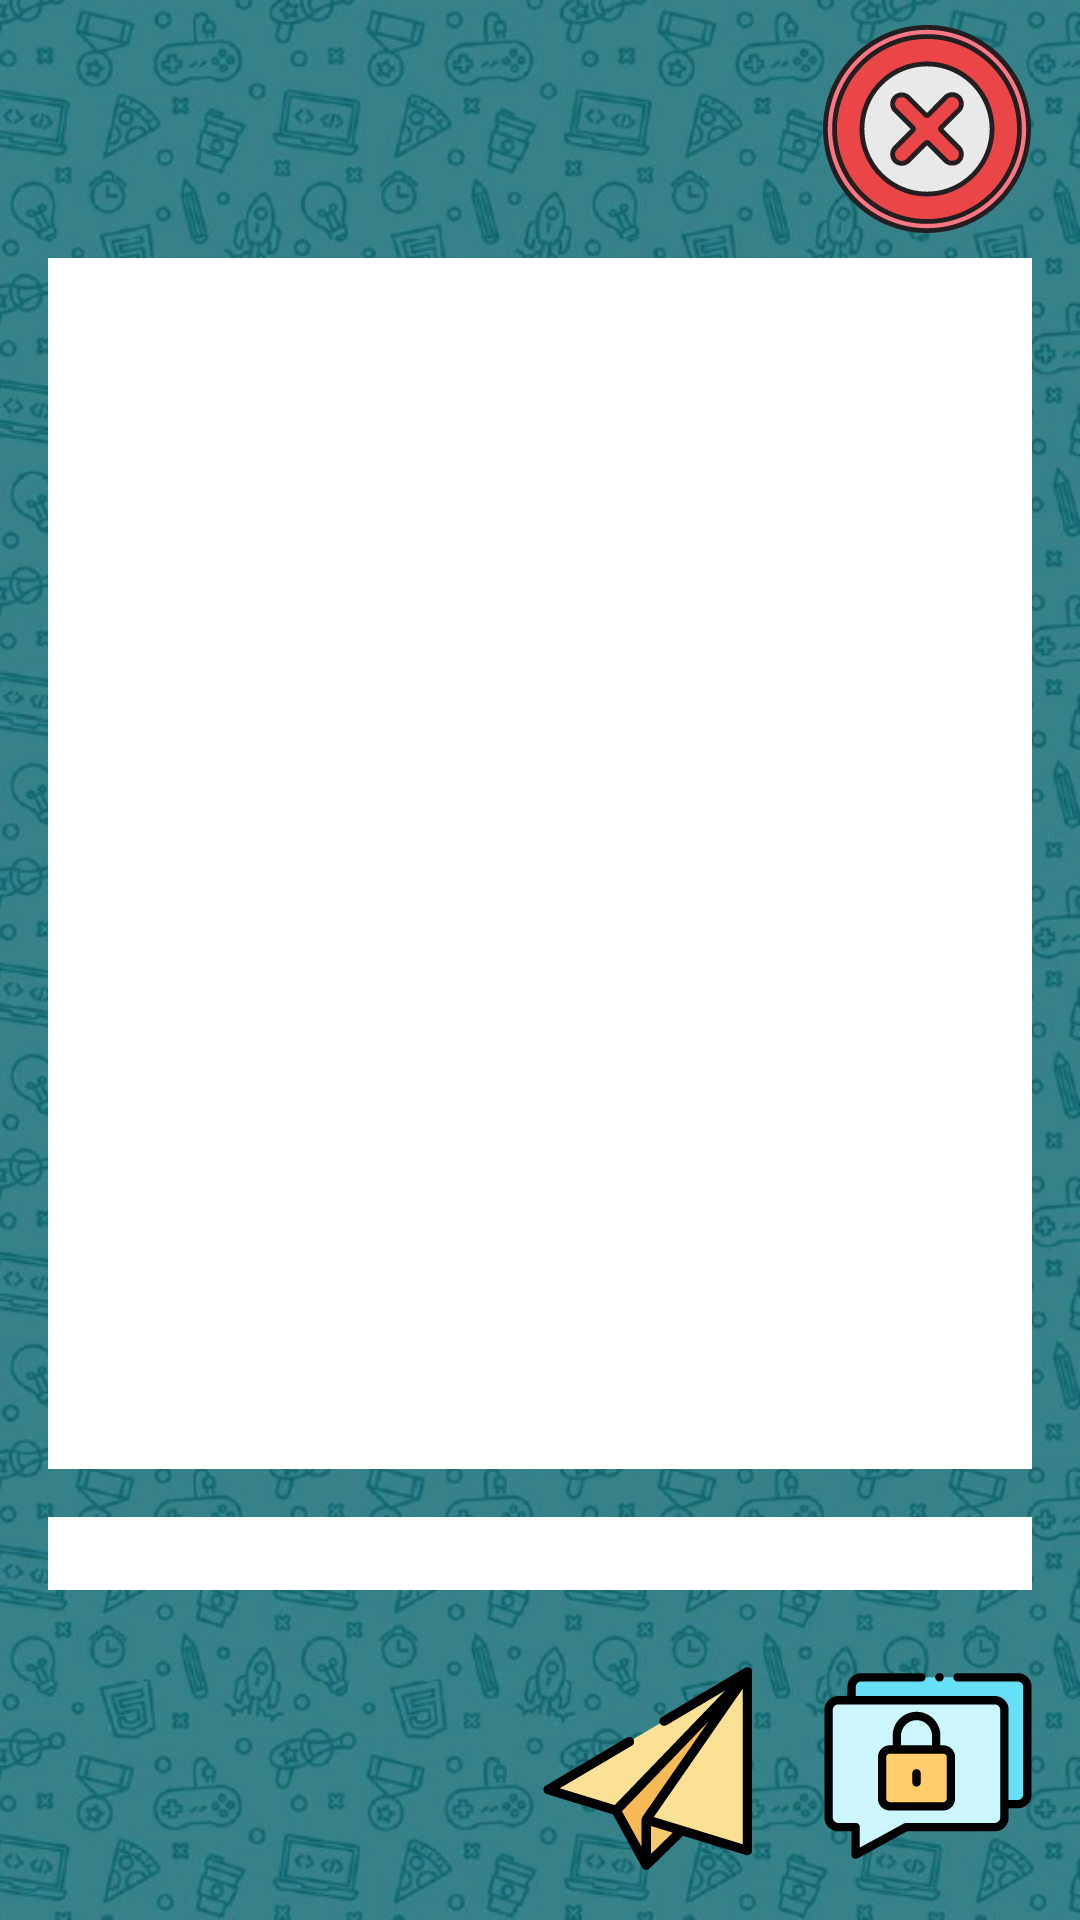

Locate icon controls on the screen. Image size 1080w x 1920h, boxes as {"left": x1, "top": y1, "right": x2, "bottom": y2}.
enviar: {"left": 542, "top": 1662, "right": 752, "bottom": 1872}
privado: {"left": 824, "top": 1662, "right": 1032, "bottom": 1870}
salir: {"left": 822, "top": 24, "right": 1032, "bottom": 234}
